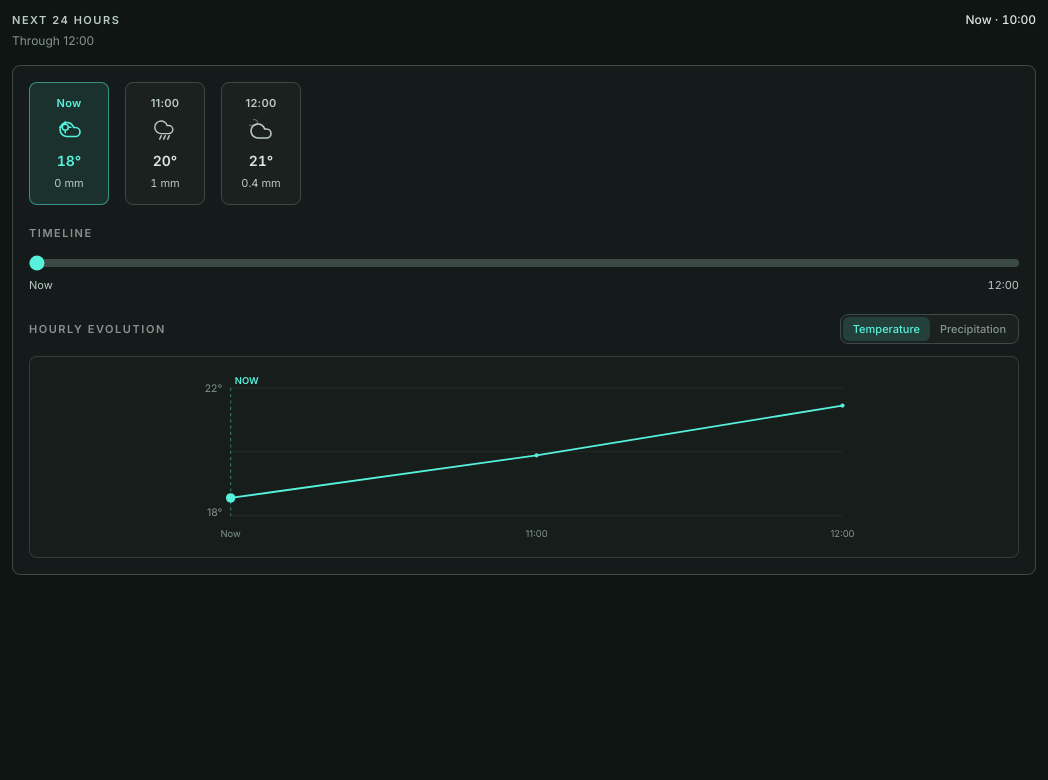
HourlyExploration › updates the shared hour from the timeline scrubber
Set the slider named "Hourly weather timeline" to "2" at (1011, 263), box 29,259 -> 1019,267
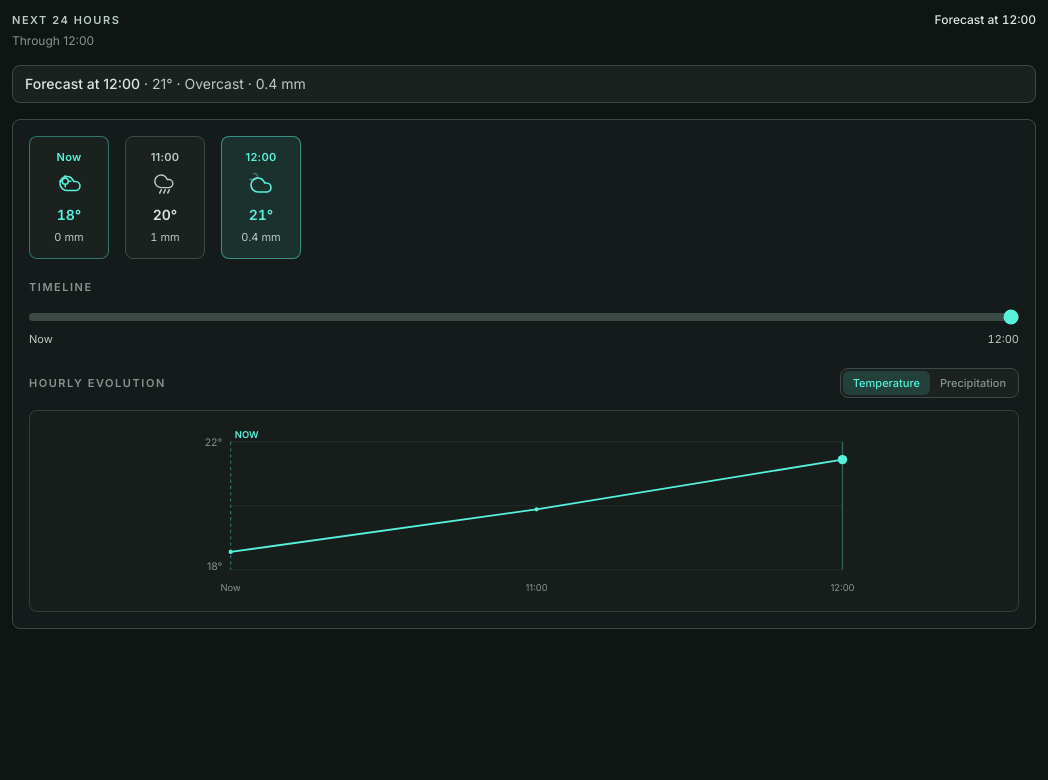
Expected: the message shows "Forecast at", 25,74 -> 140,92
Expected: the message shows "Overcast", 172,74 -> 244,92
